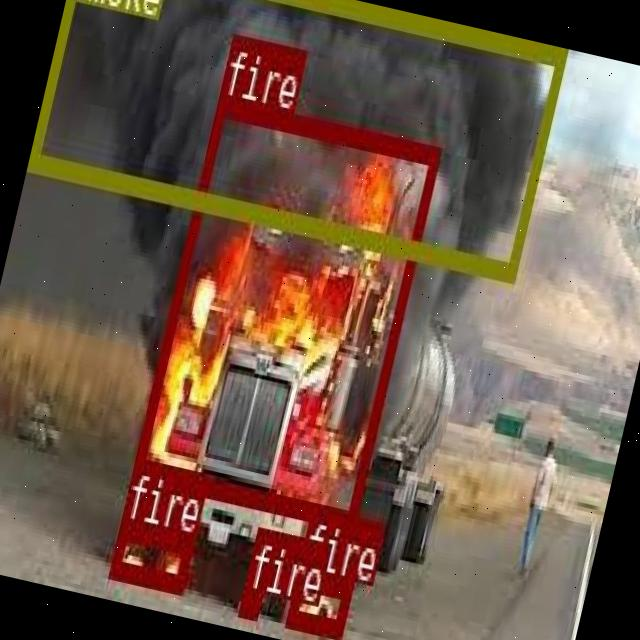fire: (130, 94, 440, 524), (108, 518, 192, 590), (284, 566, 352, 634), (238, 586, 262, 614)
smoke: (27, 0, 564, 275)
